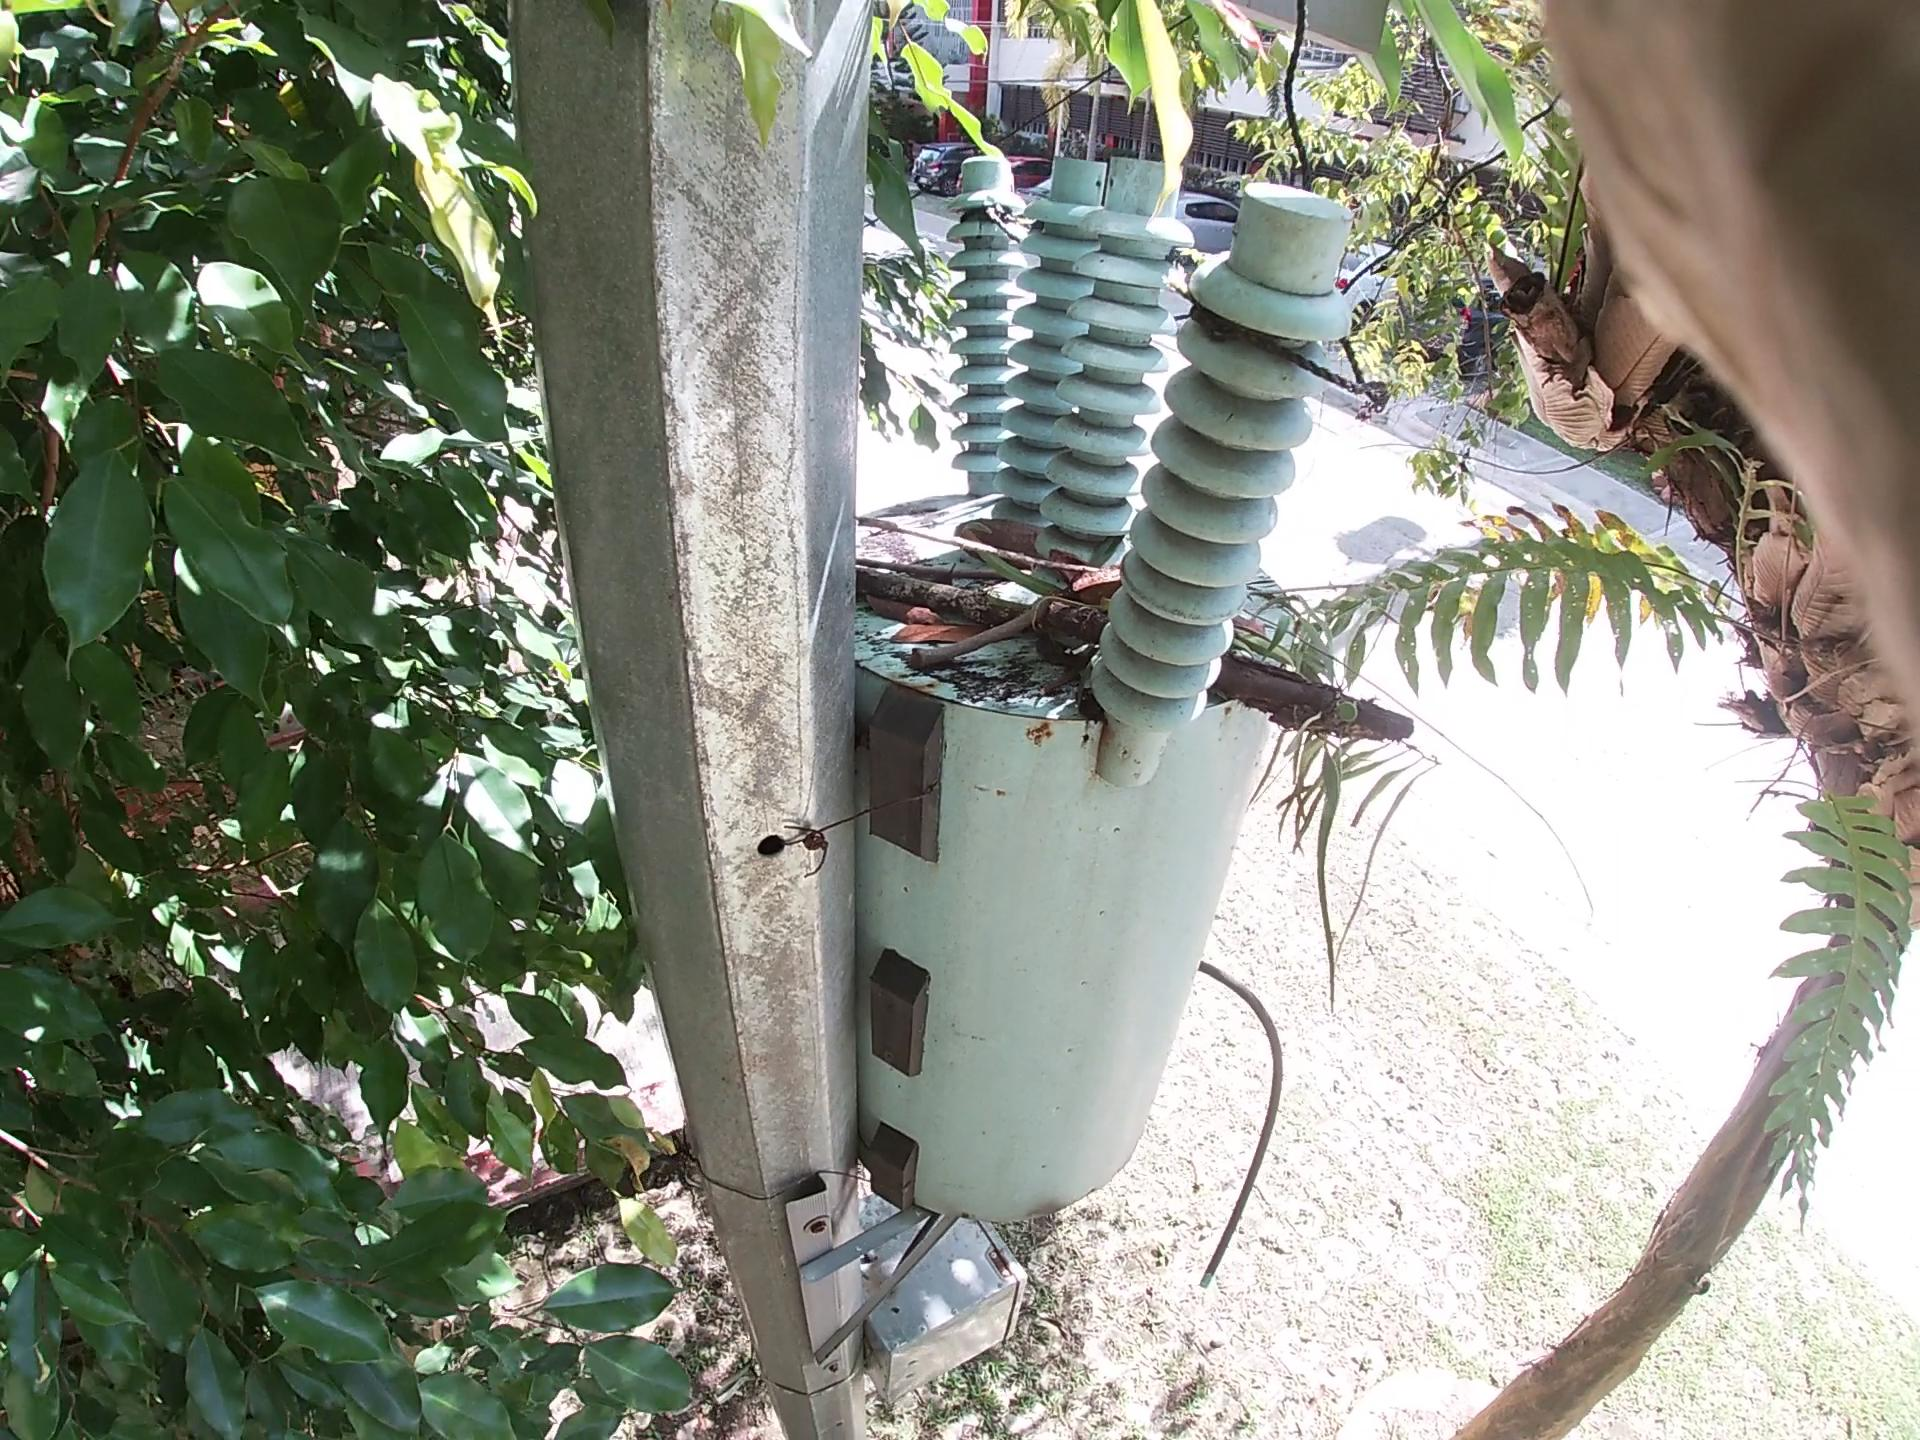branch with leaves: (844, 569, 1474, 805)
leaf: (892, 597, 949, 644)
mahogany fruit: (934, 502, 1134, 566), (1037, 546, 1172, 613)
tree branch: (848, 504, 1268, 635), (831, 460, 963, 549), (919, 604, 1052, 663)
